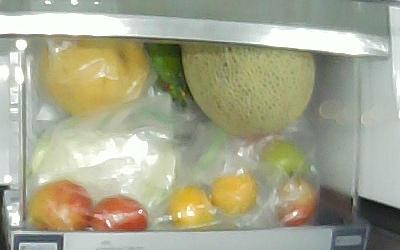cabbage_vinyl: (34, 122, 180, 211)
melon: (180, 43, 315, 136)
pear_vinyl: (37, 37, 148, 115)
prune_vinyl: (27, 180, 93, 232), (90, 195, 148, 233)
tangerine_vinyl: (206, 172, 256, 216), (167, 186, 214, 231)
tomato_vinyl: (261, 141, 305, 188), (275, 177, 316, 227)
zucchini: (144, 42, 194, 111)
